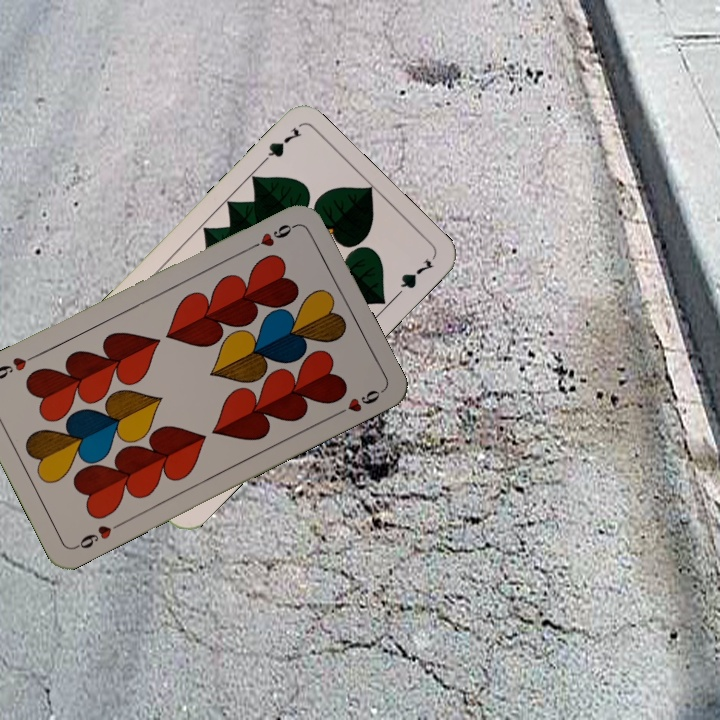G7: (254, 122, 305, 170)
H9: (71, 518, 126, 552), (244, 220, 299, 252)
